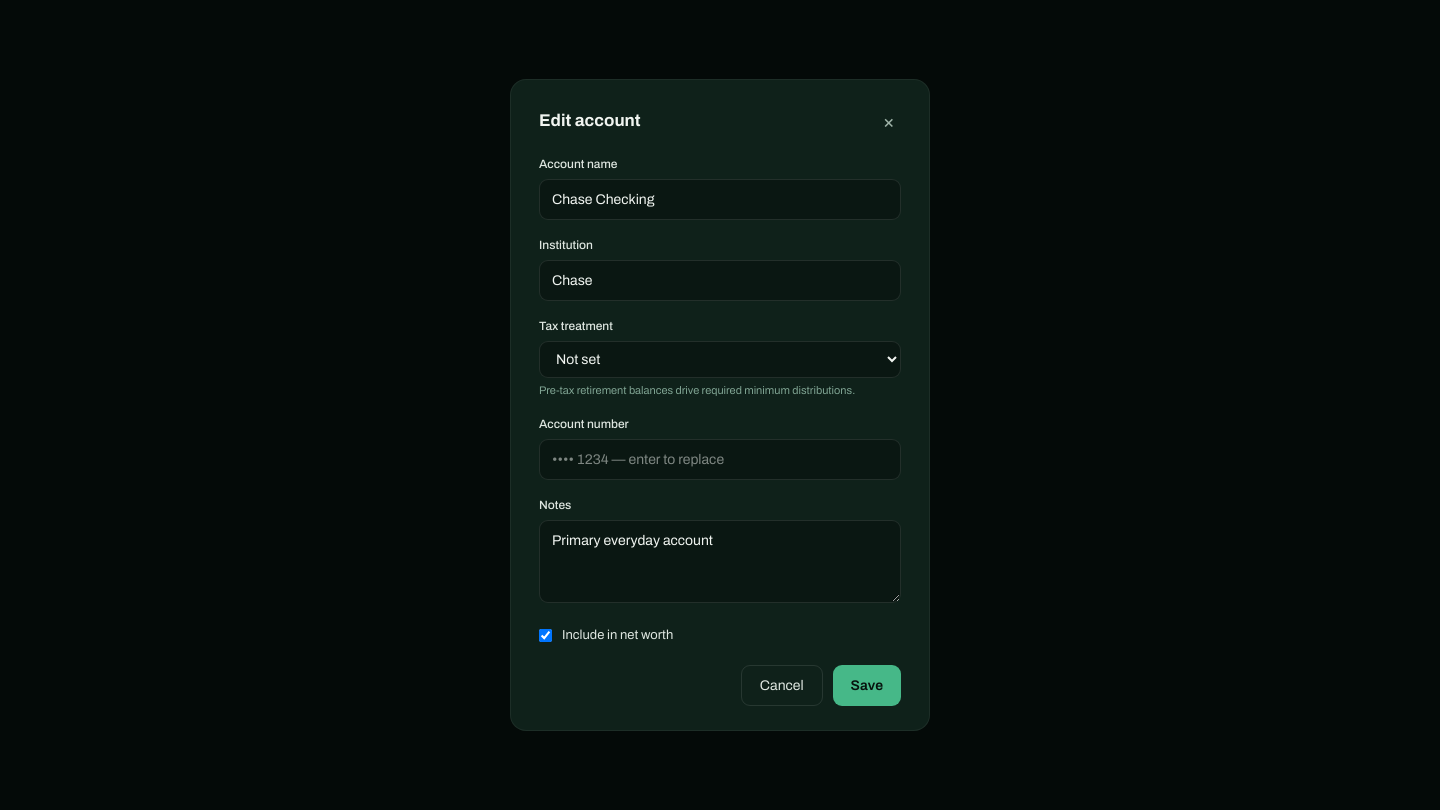
EditAccountModal › shows validation error when nickname is cleared
The image size is (1440, 810).
Clear the field with placeholder "e.g. Chase Checking" below "Account name": (720, 200) [539,179,901,220]
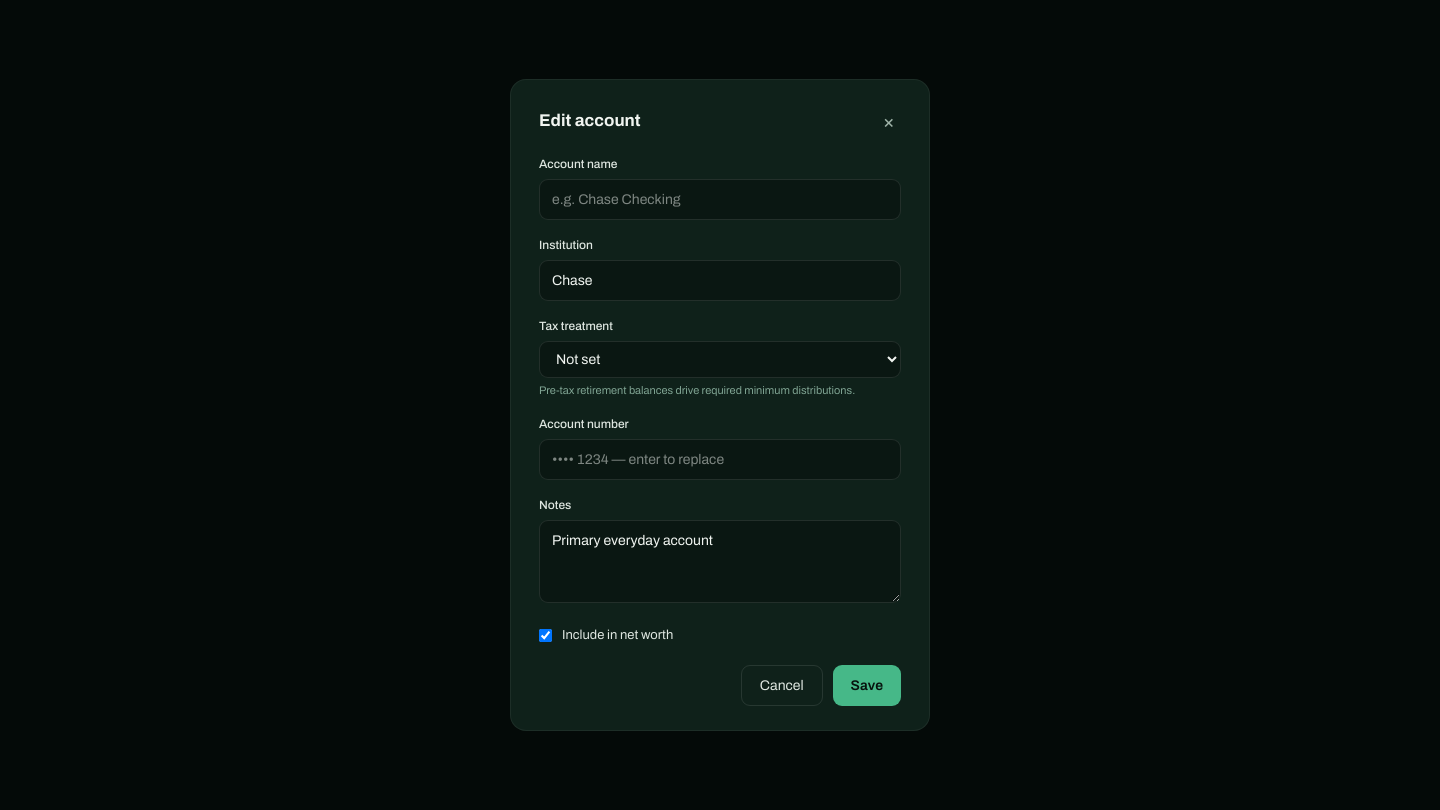
Click the button "Save": click(867, 686) [833,665,901,706]
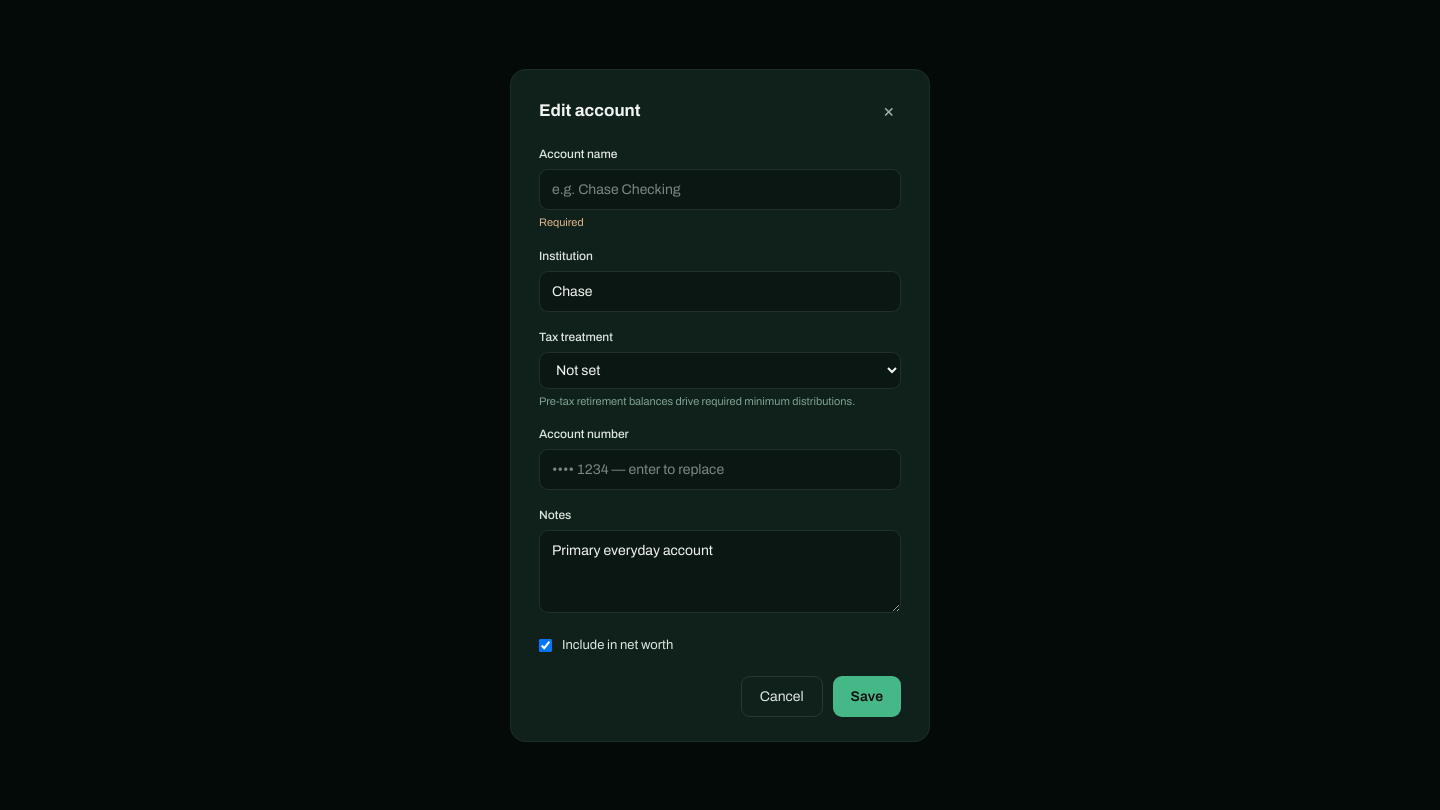
Result: the text "Required" is shown at [539,216,584,228]
